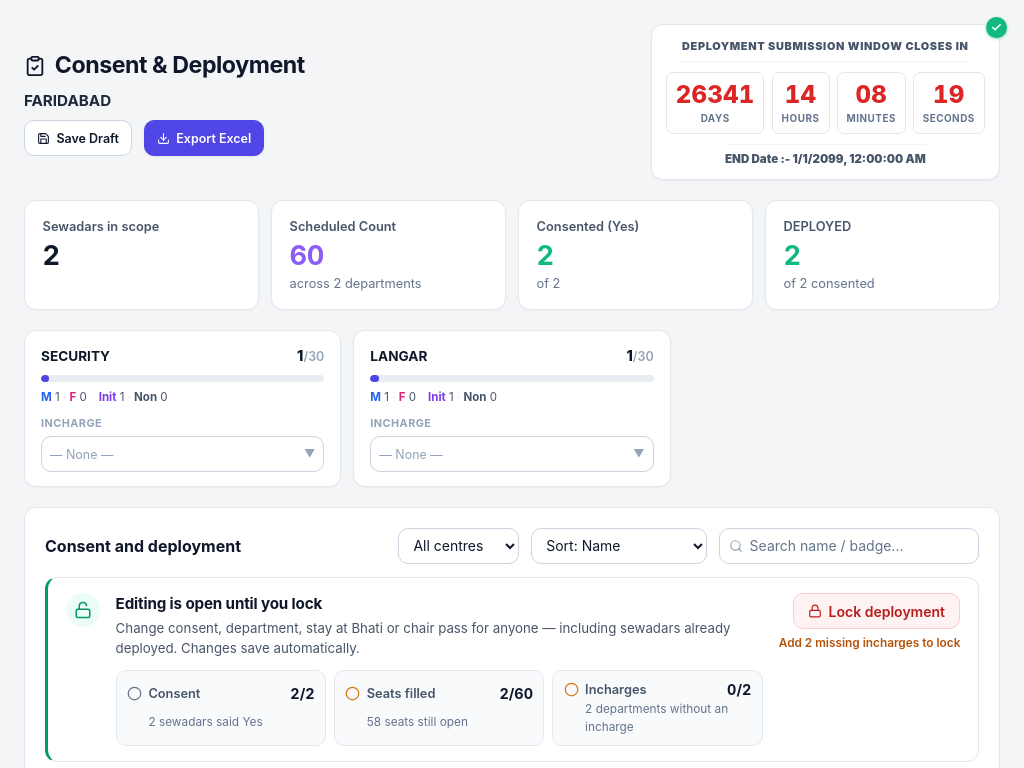
Test: ConsentPage — lock gate follows the ASO final department › lists an ASO-moved sewadar as eligible in the department they were moved to
Click the 2nd button "— None — ▼".
click(411, 454)  # box [370,436,654,472]
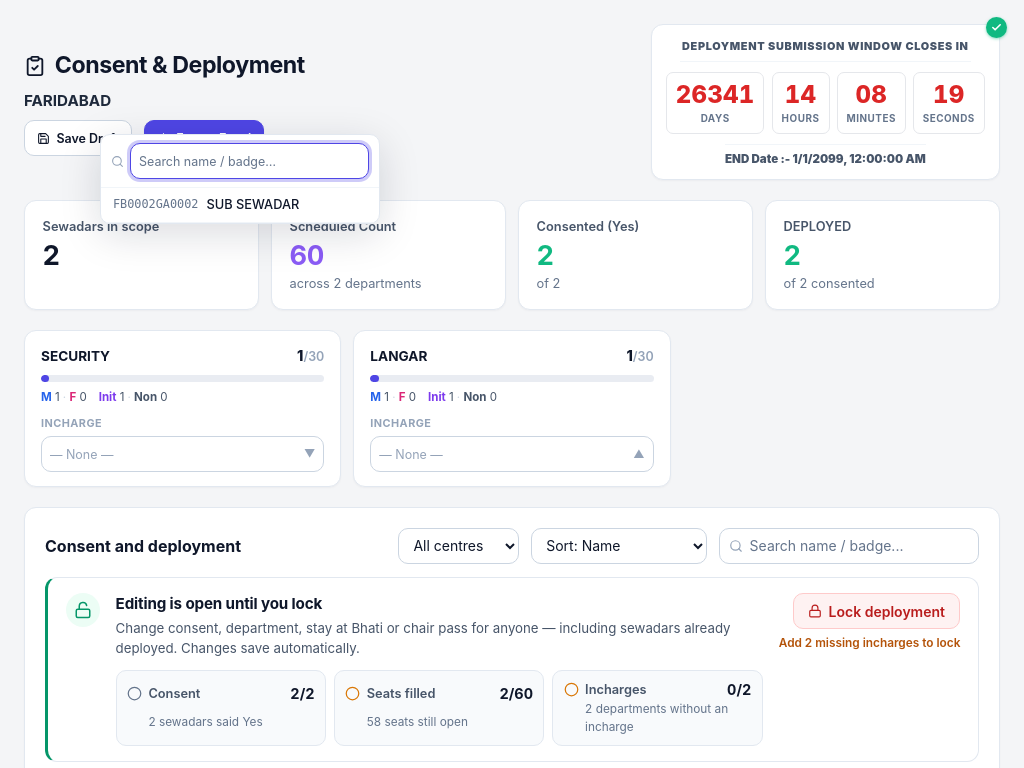
Expected: the option "FB0002GA0002 SUB SEWADAR" is shown, [101,188,379,223]
